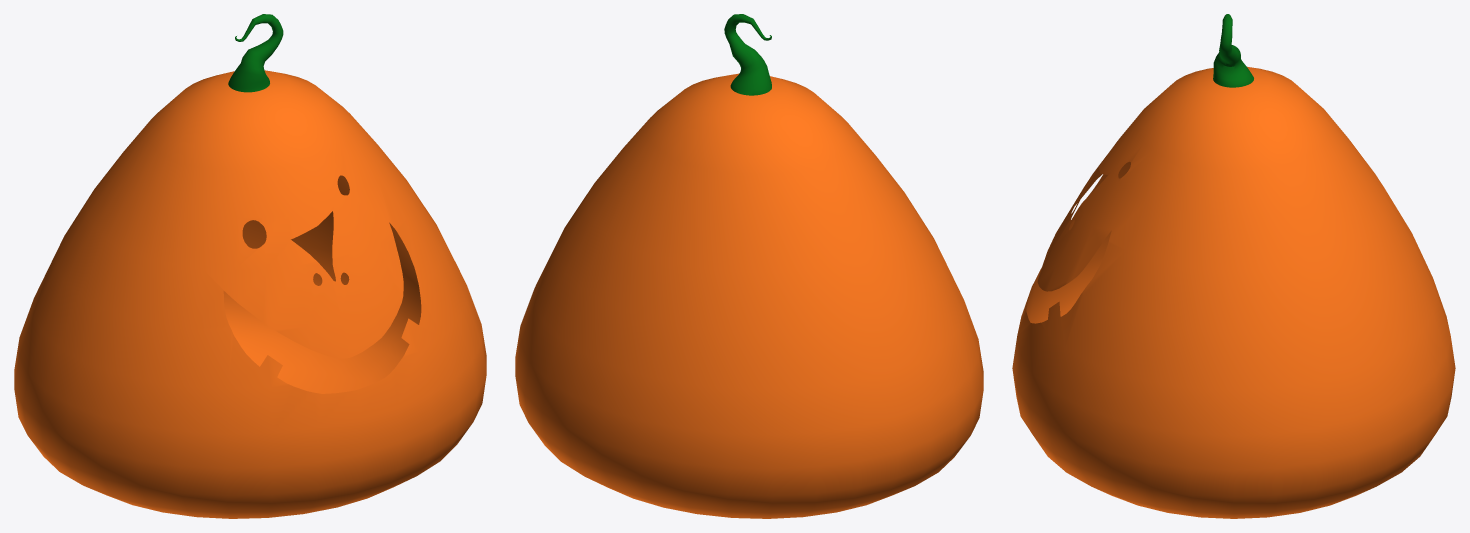
The model's file is coraline-pumpkin.glb.
3 renders of one model, left to right at view 1: azimuth 30°, elevation 25°; view 2: azimuth 150°, elevation 25°; view 3: azimuth 270°, elevation 25°, orthographic.
Visible parts, largest first — view 1: Sphere, Stem; view 2: Sphere, Stem; view 3: Sphere, Stem.
Boxes of the visible parts, x1,y1,x2,y2 form: Sphere: (14,70,486,518); Stem: (228,14,283,92); Sphere: (515,73,983,518); Stem: (724,14,771,95); Sphere: (1012,66,1455,518); Stem: (1213,14,1253,87).
Bounding box in the file's own units: 2.24 × 2.28 × 2.06.
